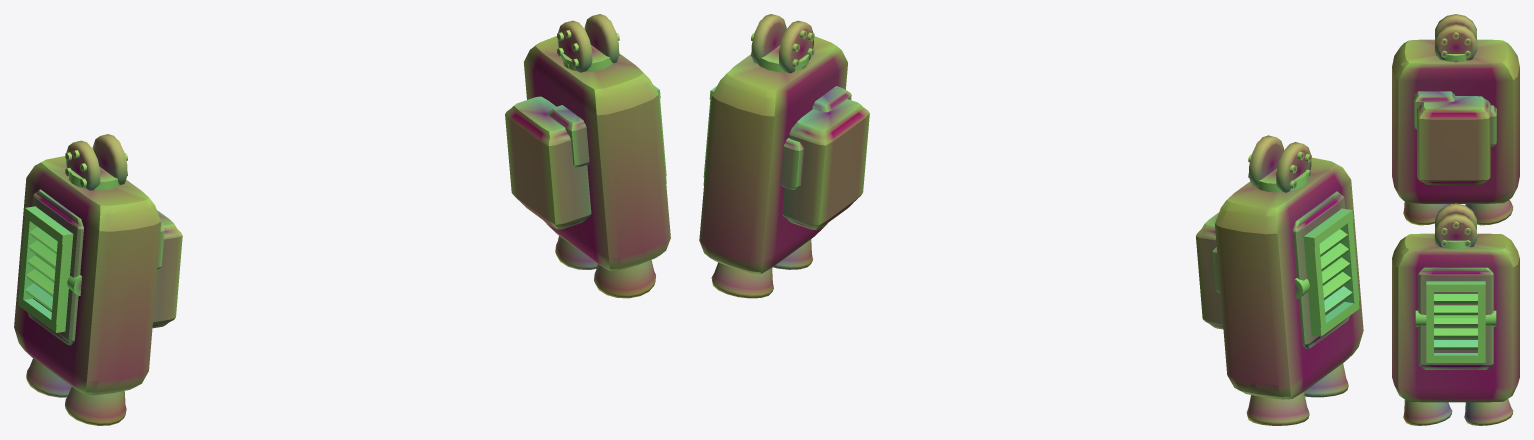
The model's file is llm_gen_leg_thrusters_062_b7c5bf.glb.
The picture shows the model from 3 angles, left to right: view 1: azimuth 30°, elevation 25°; view 2: azimuth 150°, elevation 25°; view 3: azimuth 270°, elevation 25°; orthographic projection. The views are drawn at different scales.
Visible parts, largest first — view 1: flare_cowling_main_0_cobalt_anodized_l, flare_cowling_main_0_cobalt_anodized_r, adapter_calf_clamp_r, adapter_sub_flare_louver_gold_3_dark_l, adapter_sub_louver_frame_dark_1_adapter_dark_l, adapter_calf_clamp_l, servo_5_servo_accent_r, servo_5_servo_accent_l, flare_louver_gold_3_gold_l, flare_bell_fwd_6_vernier_bell_vernier_l, flare_bell_fwd_6_vernier_bell_vernier_r, adapter_leg_knee_mount_dark_8_adapter_dark_r (+2 smaller); view 2: flare_cowling_main_0_cobalt_anodized_l, flare_cowling_main_0_cobalt_anodized_r, adapter_calf_clamp_r, adapter_sub_flare_louver_gold_3_dark_l, adapter_sub_louver_frame_dark_1_adapter_dark_l, servo_5_servo_accent_r, servo_5_servo_accent_l, adapter_calf_clamp_l, flare_louver_gold_3_gold_l, flare_bell_aft_7_vernier_bell_vernier_l, flare_bell_aft_7_vernier_bell_vernier_r, adapter_leg_tank_collar_dark_9_adapter_dark_r (+2 smaller); view 3: flare_cowling_main_0_cobalt_anodized_r, flare_cowling_main_0_cobalt_anodized_l, adapter_calf_clamp_l, adapter_sub_louver_frame_dark_1_adapter_dark_r, flare_louver_gold_3_gold_r, adapter_sub_flare_louver_gold_3_dark_r, servo_5_servo_accent_l, servo_5_servo_accent_r, flare_bell_aft_7_vernier_bell_vernier_r, flare_bell_fwd_6_vernier_bell_vernier_r, flare_bell_aft_7_vernier_bell_vernier_l, flare_bell_fwd_6_vernier_bell_vernier_l (+7 smaller).
Part boxes in pixels (x1,y1,x2,y2): flare_cowling_main_0_cobalt_anodized_l: [14, 156, 160, 395]; flare_cowling_main_0_cobalt_anodized_r: [523, 36, 670, 271]; adapter_calf_clamp_r: [505, 96, 591, 229]; adapter_sub_flare_louver_gold_3_dark_l: [18, 206, 73, 332]; adapter_sub_louver_frame_dark_1_adapter_dark_l: [27, 189, 83, 345]; adapter_calf_clamp_l: [152, 210, 182, 328]; servo_5_servo_accent_r: [557, 14, 618, 72]; servo_5_servo_accent_l: [66, 134, 127, 190]; flare_louver_gold_3_gold_l: [25, 226, 57, 311]; flare_bell_fwd_6_vernier_bell_vernier_l: [65, 387, 126, 425]; flare_bell_fwd_6_vernier_bell_vernier_r: [594, 260, 655, 298]; adapter_leg_knee_mount_dark_8_adapter_dark_r: [547, 105, 589, 167]; flare_cowling_main_0_cobalt_anodized_l: [1215, 157, 1363, 399]; flare_cowling_main_0_cobalt_anodized_r: [699, 36, 847, 273]; adapter_calf_clamp_r: [782, 99, 869, 229]; adapter_sub_flare_louver_gold_3_dark_l: [1303, 208, 1359, 336]; adapter_sub_louver_frame_dark_1_adapter_dark_l: [1293, 191, 1349, 348]; servo_5_servo_accent_r: [751, 14, 813, 73]; servo_5_servo_accent_l: [1249, 135, 1311, 192]; adapter_calf_clamp_l: [1196, 212, 1223, 329]; flare_louver_gold_3_gold_l: [1319, 229, 1352, 314]; flare_bell_aft_7_vernier_bell_vernier_l: [1246, 392, 1309, 425]; flare_bell_aft_7_vernier_bell_vernier_r: [711, 262, 773, 298]; adapter_leg_tank_collar_dark_9_adapter_dark_r: [780, 138, 803, 189]; flare_cowling_main_0_cobalt_anodized_r: [1392, 233, 1519, 402]; flare_cowling_main_0_cobalt_anodized_l: [1392, 39, 1519, 203]; adapter_calf_clamp_l: [1417, 96, 1490, 185]; adapter_sub_louver_frame_dark_1_adapter_dark_r: [1418, 267, 1493, 369]; flare_louver_gold_3_gold_r: [1434, 294, 1477, 349]; adapter_sub_flare_louver_gold_3_dark_r: [1426, 281, 1485, 362]; servo_5_servo_accent_l: [1435, 14, 1476, 60]; servo_5_servo_accent_r: [1435, 203, 1476, 247]; flare_bell_aft_7_vernier_bell_vernier_r: [1464, 399, 1513, 425]; flare_bell_fwd_6_vernier_bell_vernier_r: [1403, 400, 1452, 425]; flare_bell_aft_7_vernier_bell_vernier_l: [1465, 200, 1513, 225]; flare_bell_fwd_6_vernier_bell_vernier_l: [1403, 201, 1450, 225].
Bounding box in the file's own units: 83.2 × 33.52 × 19.08.
